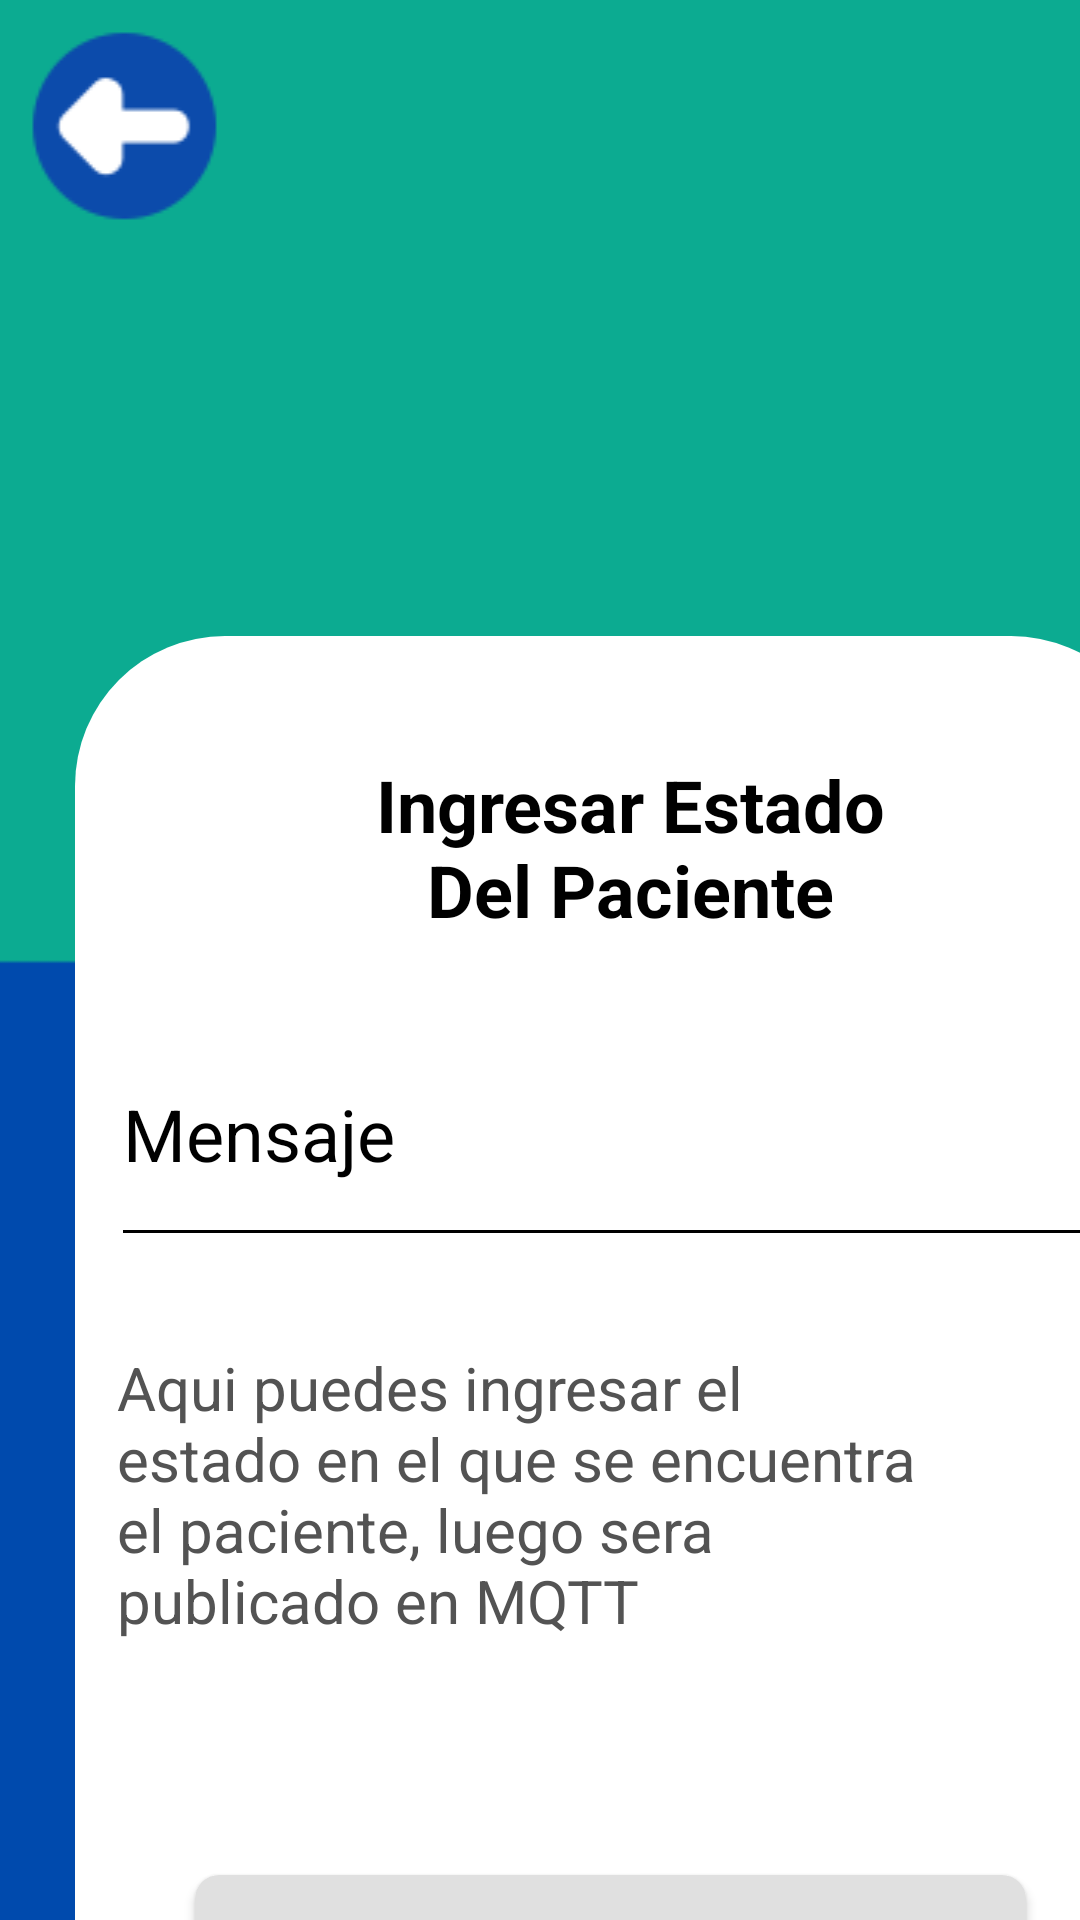

Icon click points for this 1080 × 1920 phone screenshot, format [x,y]:
btnvolver: [124,126]
